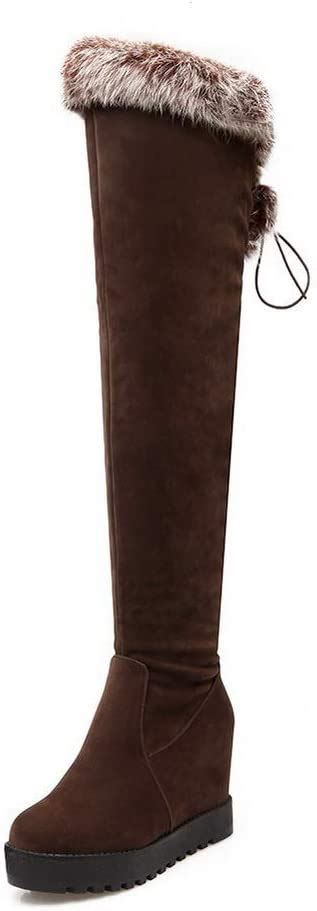gamuza: (9, 108, 258, 856)
